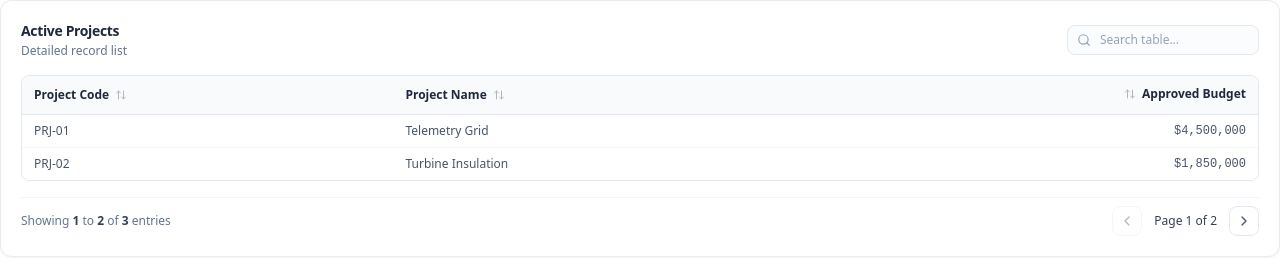
Test: Widget Registry & Individual Widget Tests › TableWidget › renders paginated rows with formatting and handles sorting and searching
Expected: the text "PRJ-01" is shown, [22,114,393,148]
Expected: the text "PRJ-02" is shown, [22,148,393,180]
# Pagination next
Click the button named "Next page". click: (1244, 221)
box: [1229,206,1259,236]
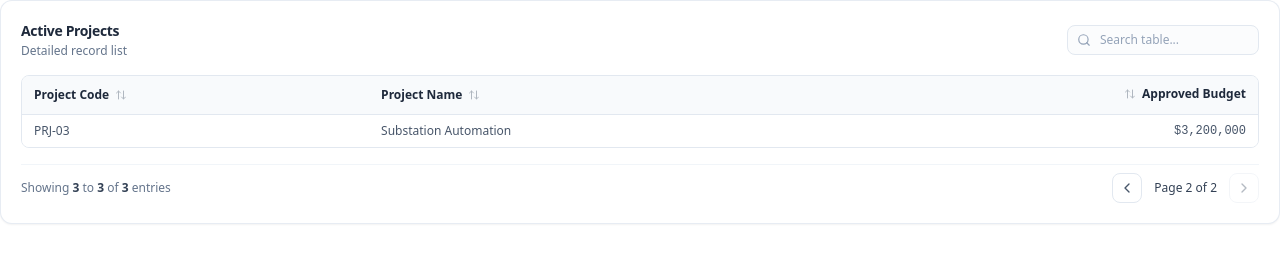
Result: the text "PRJ-03" is shown at [22,114,369,147]
Result: the text "PRJ-01" is gone
# Search functionality
Type "Telemetry" into the field with placeholder "Search table...". click: (1163, 40)
box: [1067,25,1259,55]
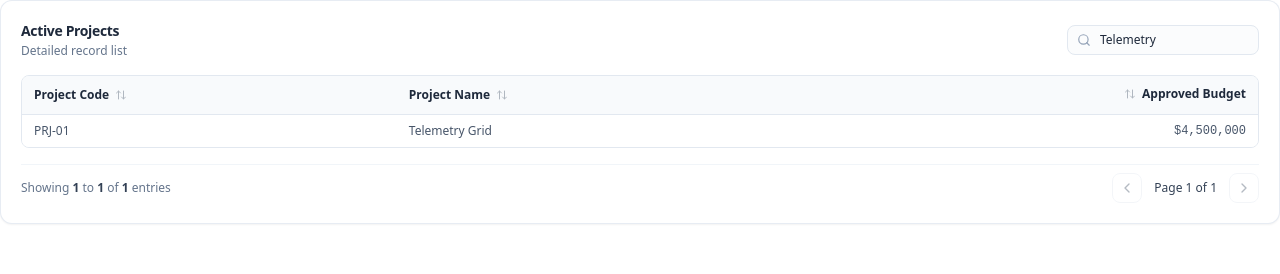
Expected: the text "Turbine Insulation" is not shown
Result: the text "Telemetry Grid" is shown at [397,114,791,147]
